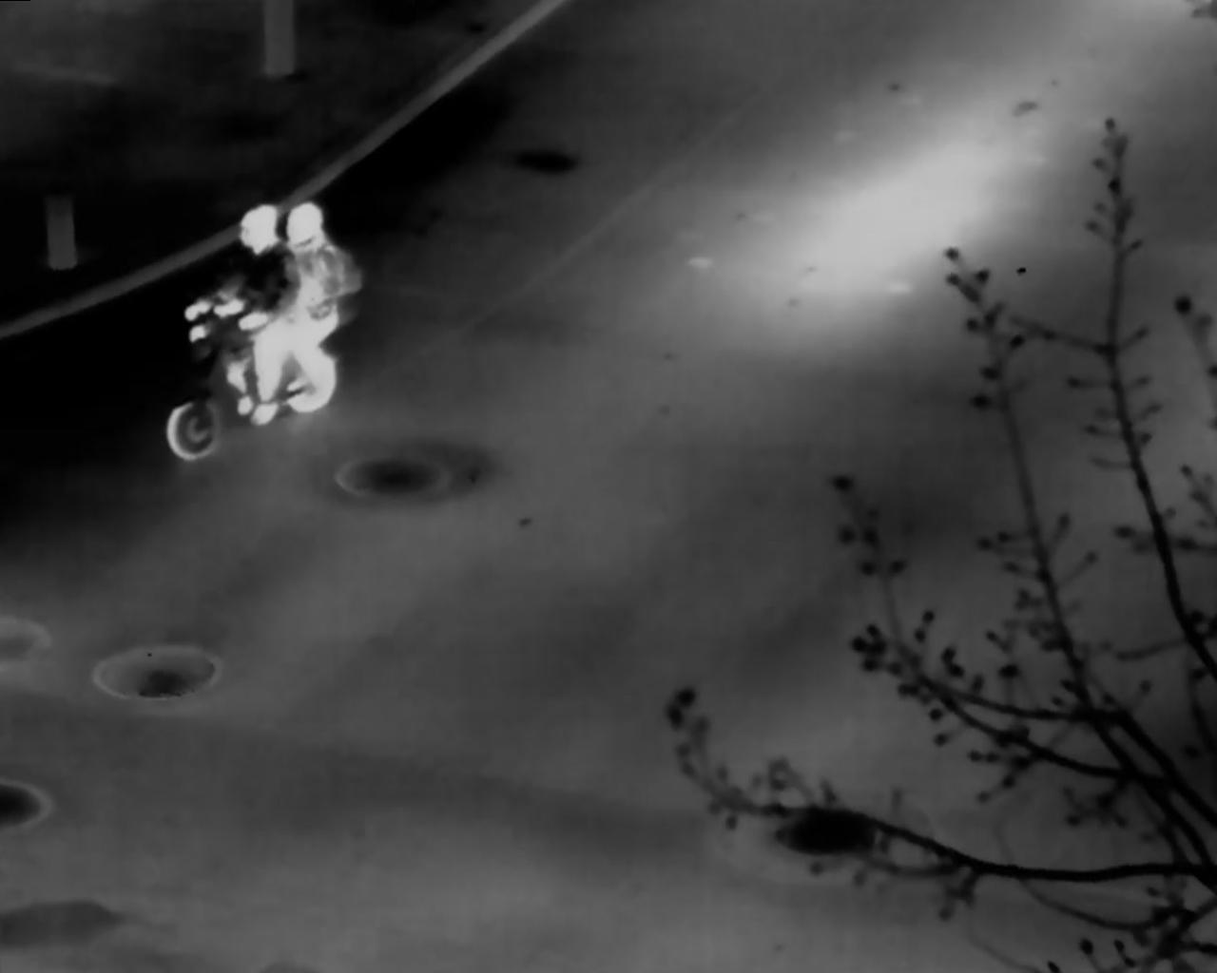person: (180, 202, 302, 426), (285, 200, 365, 412)
